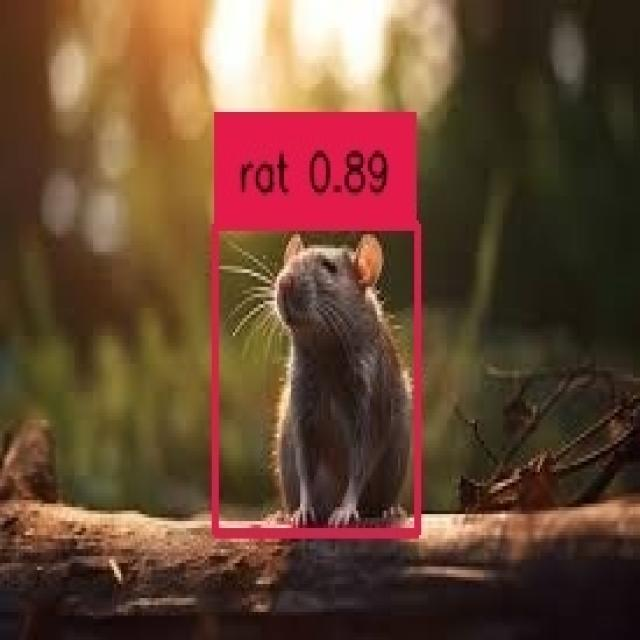rat: (212, 220, 414, 528)
